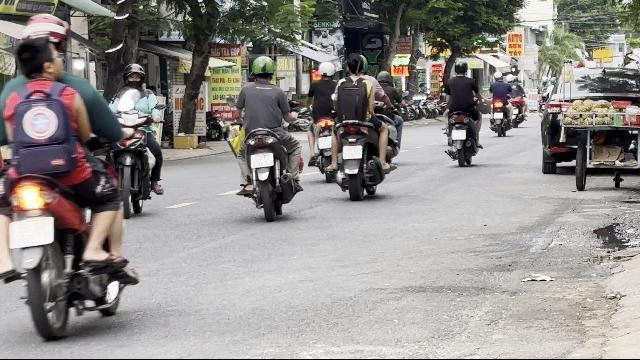helmet: (13, 13, 71, 47), (250, 55, 276, 81), (122, 62, 146, 90), (317, 61, 335, 80)
licenseplate: (10, 218, 52, 246), (251, 154, 273, 168), (342, 145, 362, 159), (318, 137, 332, 149)
motorcyclist: (0, 11, 142, 338), (229, 54, 305, 218), (331, 52, 401, 200), (109, 62, 167, 217), (304, 56, 340, 180)
nohelmet: (12, 34, 66, 84), (343, 54, 367, 76)
